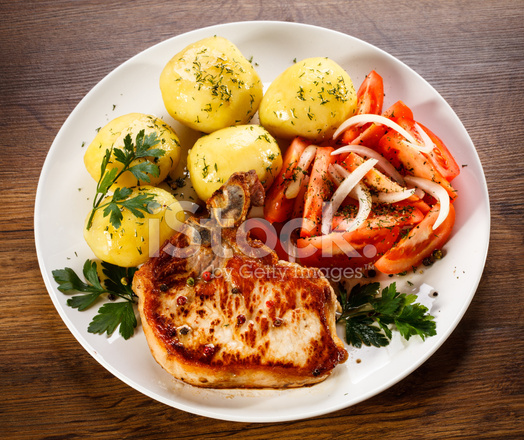boiled potatoes: (100, 129, 171, 246), (168, 48, 261, 126), (269, 59, 356, 130), (190, 133, 276, 183)
